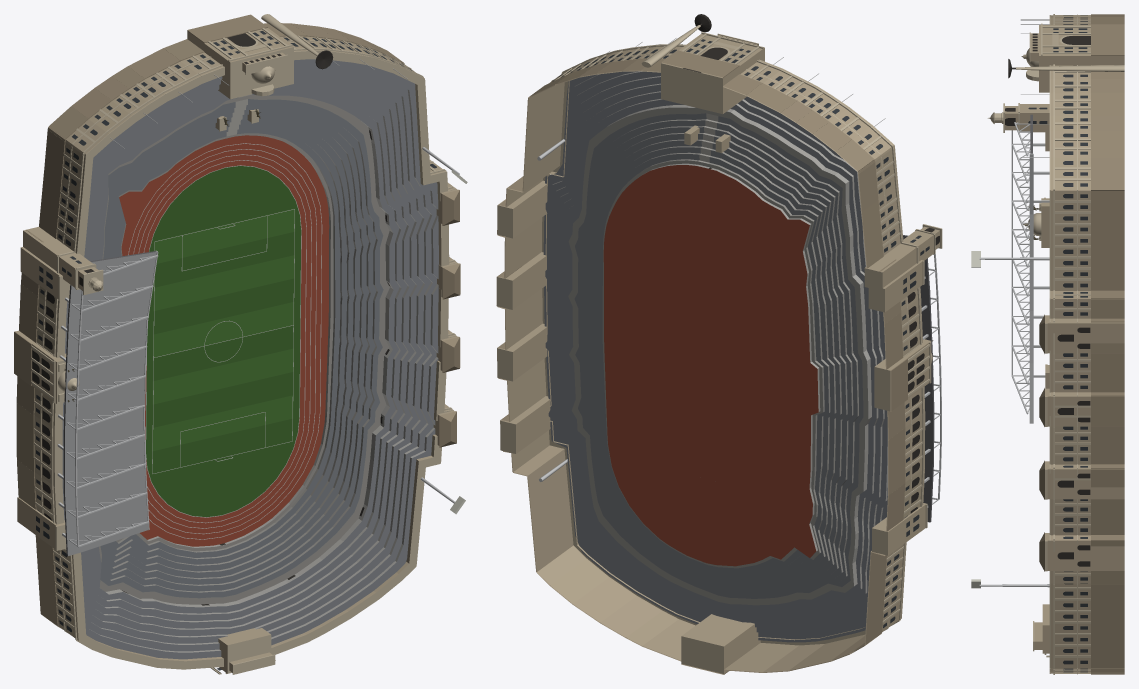
The model's file is estadi-olimpic.glb.
3 renders of one model, left to right at view 1: azimuth 30°, elevation 25°; view 2: azimuth 150°, elevation 25°; view 3: azimuth 270°, elevation 25°, orthographic. The views are drawn at different scales.
Visible parts, largest first — view 1: estadi-olimpic; view 2: estadi-olimpic; view 3: estadi-olimpic.
Part boxes in pixels (x1,y1,x2,y2): estadi-olimpic: [14, 14, 467, 674]; estadi-olimpic: [496, 14, 942, 674]; estadi-olimpic: [971, 14, 1124, 674].
Bounding box in the file's own units: 193 × 280 × 63.5.
